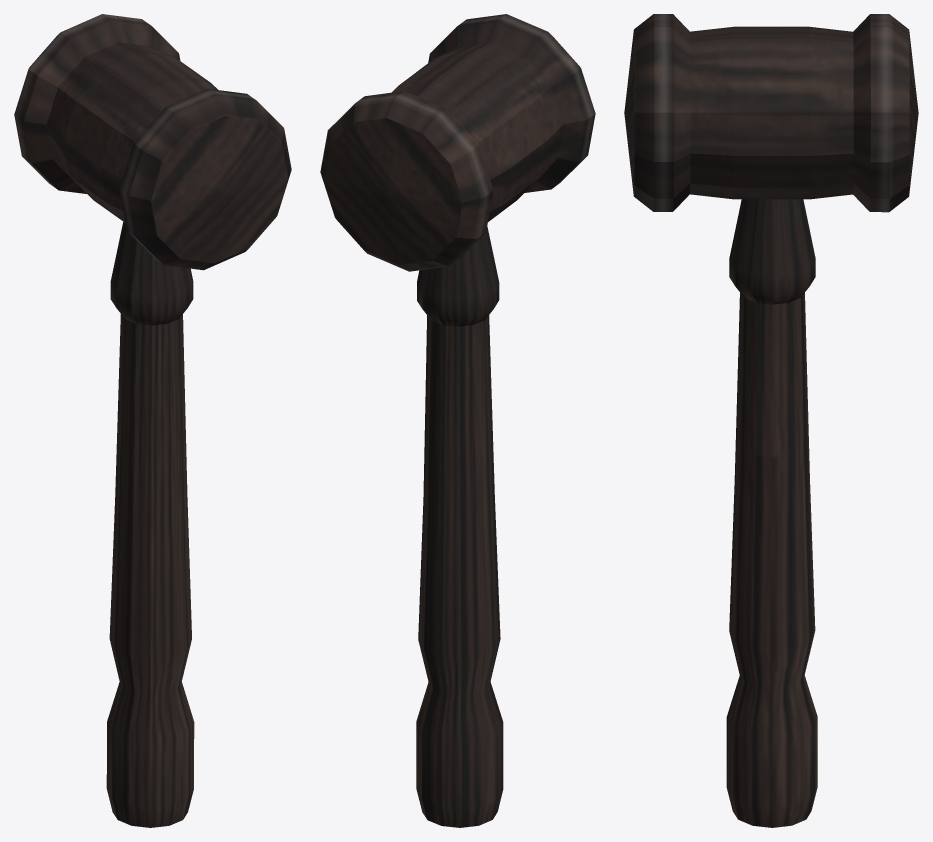
Rendered from gavel.fbx.
The picture shows the model from 3 angles, left to right: view 1: azimuth 30°, elevation 25°; view 2: azimuth 150°, elevation 25°; view 3: azimuth 270°, elevation 25°; orthographic projection. The views are drawn at different scales.
Parts seen in each view (by area): view 1: top1, handle; view 2: top1, handle; view 3: top1, handle.
Boxes of the visible parts, bbox=[...] form: top1: bbox=[14, 14, 291, 270]; handle: bbox=[106, 222, 194, 827]; top1: bbox=[320, 14, 595, 271]; handle: bbox=[416, 226, 503, 827]; top1: bbox=[624, 14, 918, 212]; handle: bbox=[726, 199, 817, 827].
Bounding box in the file's own units: 0.6513 × 2.85 × 0.9622.
1 material, 1 textured.
